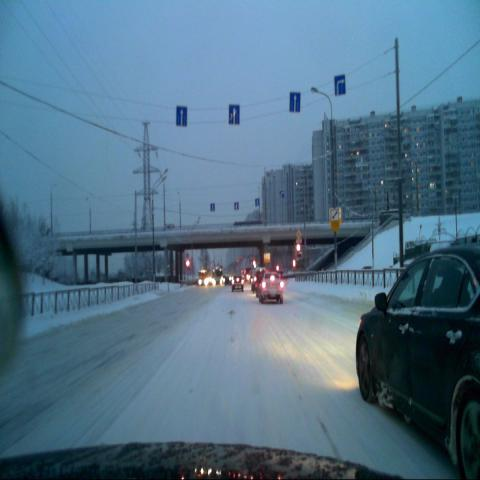5_15_2: (228, 105, 240, 125), (334, 74, 345, 95), (290, 90, 300, 112), (176, 105, 186, 126)
